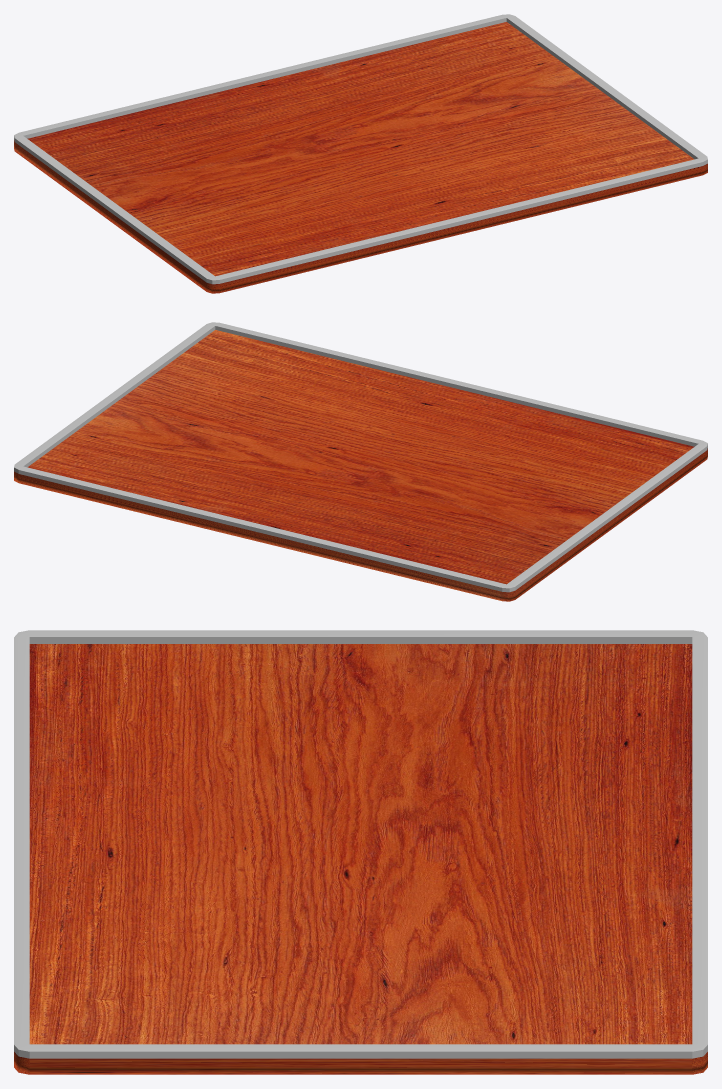
Rendered from woodplate.fbx.
The picture shows the model from 3 angles, top to bottom: view 1: azimuth 30°, elevation 25°; view 2: azimuth 150°, elevation 25°; view 3: azimuth 270°, elevation 25°; orthographic projection. The views are drawn at different scales.
Parts seen in each view (by area): view 1: ChamferBox001; view 2: ChamferBox001; view 3: ChamferBox001.
Part boxes in pixels (bbox=[...]): ChamferBox001: bbox=[14, 14, 707, 293]; ChamferBox001: bbox=[14, 322, 707, 601]; ChamferBox001: bbox=[14, 630, 707, 1074].
Size of the model in its own units: 49.99 by 1.31 by 34.77.
